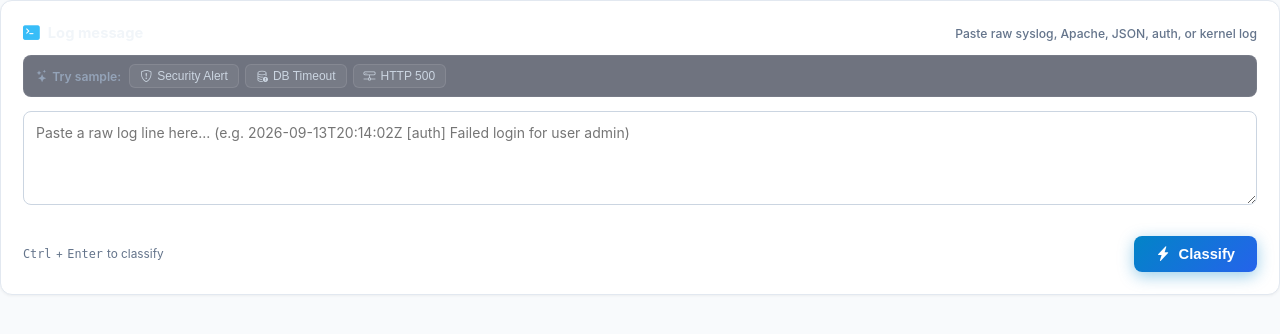
LogInput › clears the validation error once the user starts typing again
The image size is (1280, 334).
Click the button with test id "classify-button" at point(1195, 254), box [1134,236,1257,272]
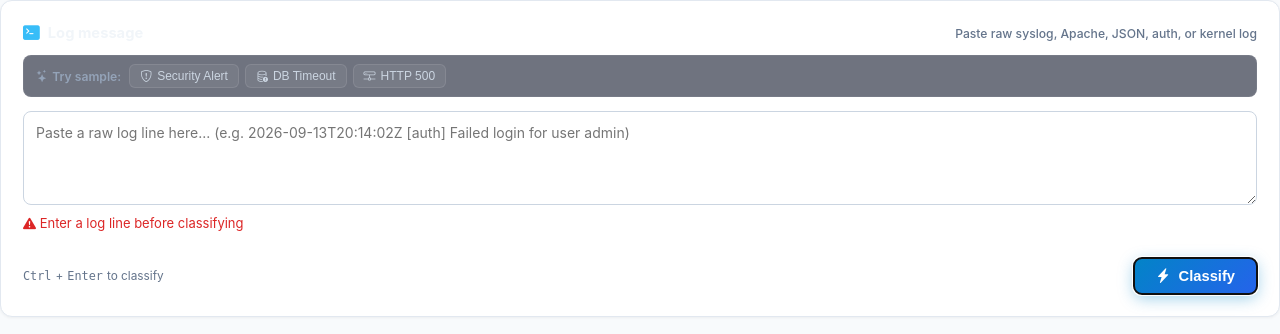
Expected: the element with test id "input-error" is shown, [23,215,244,231]
Type "a" into the text box with test id "log-textarea" at point(640, 158), box [23,111,1257,205]
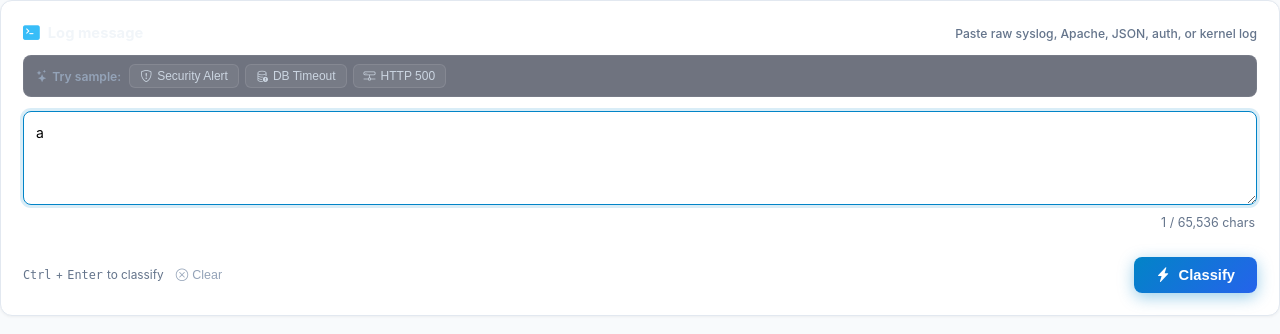
Expected: the element with test id "input-error" is gone
